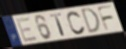6: (35, 14, 53, 42)
C: (66, 10, 86, 36)
D: (81, 7, 103, 35)
E: (15, 16, 39, 43)
F: (96, 5, 116, 33)
T: (49, 13, 67, 37)
